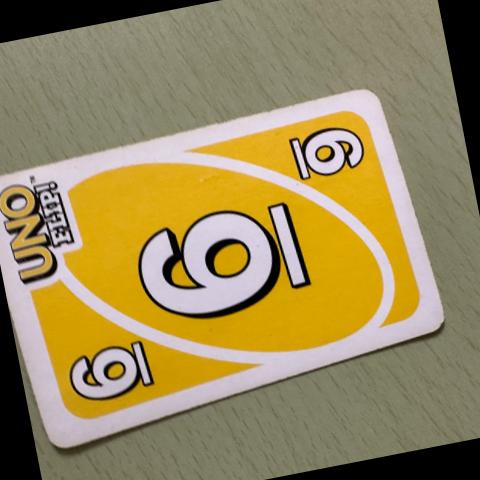0_yellow: (136, 203, 310, 319), (68, 340, 155, 401), (288, 126, 364, 181)
